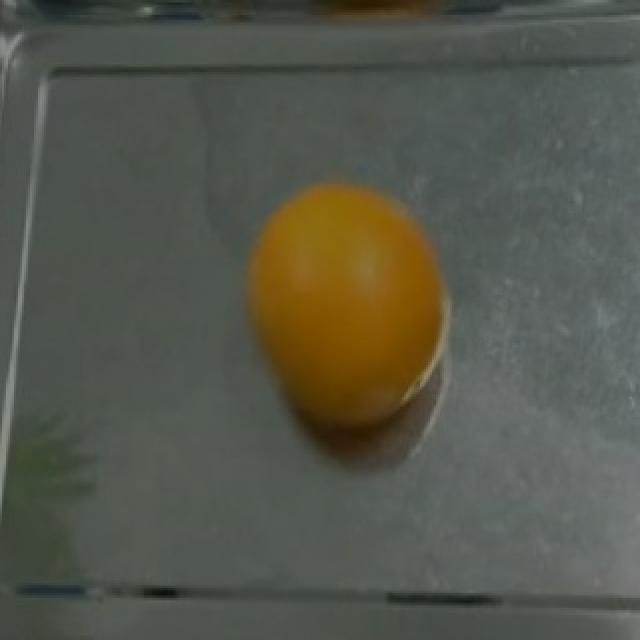Fruit: (230, 168, 472, 452)
